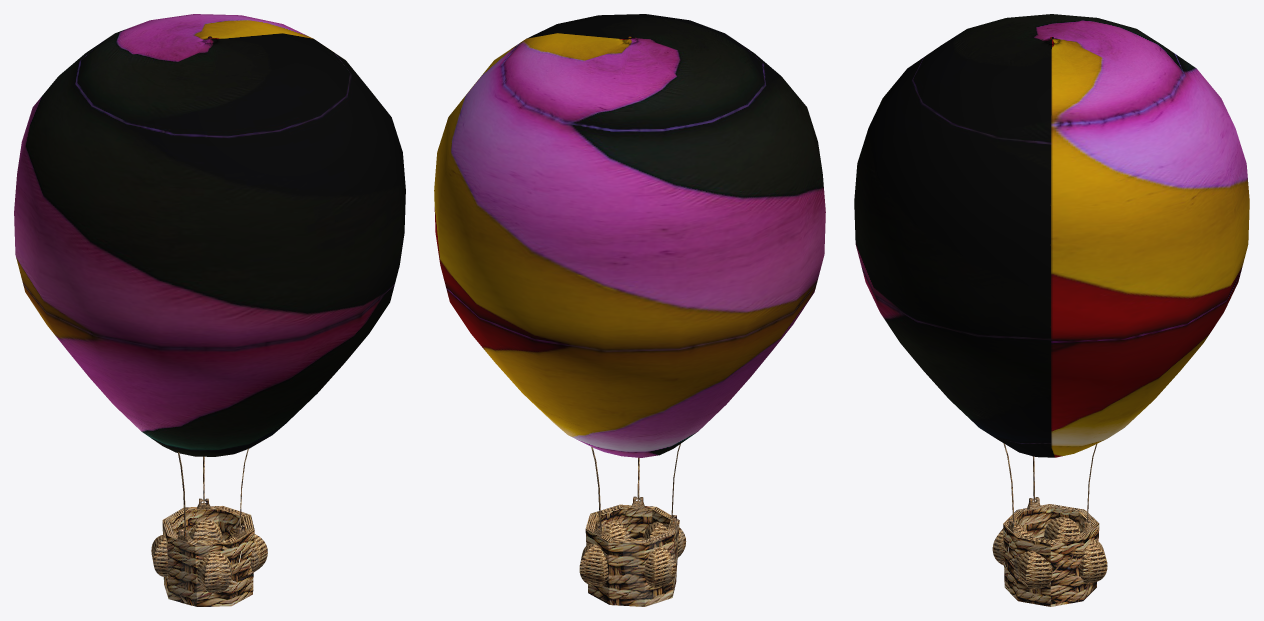
File: balloon.obj
The picture shows the model from 3 angles, left to right: view 1: azimuth 30°, elevation 25°; view 2: azimuth 150°, elevation 25°; view 3: azimuth 270°, elevation 25°; orthographic projection.
Parts seen in each view (by area): view 1: nurbsToPoly1, pPipe1, pSphere1, pSphere3, pSphere2; view 2: nurbsToPoly1, pPipe1, pSphere3, pSphere2; view 3: nurbsToPoly1, pPipe1, pSphere4, pSphere2, pSphere3.
Boxes of the visible parts, x1=… form: nurbsToPoly1: x1=14, y1=14, x2=405, y2=456; pPipe1: x1=162, y1=506, x2=254, y2=606; pSphere1: x1=196, y1=552, x2=232, y2=592; pSphere3: x1=151, y1=534, x2=167, y2=576; pSphere2: x1=189, y1=520, x2=222, y2=541; nurbsToPoly1: x1=434, y1=14, x2=825, y2=457; pPipe1: x1=585, y1=504, x2=679, y2=606; pSphere3: x1=644, y1=547, x2=676, y2=587; pSphere2: x1=579, y1=544, x2=608, y2=586; nurbsToPoly1: x1=854, y1=14, x2=1249, y2=457; pPipe1: x1=1003, y1=504, x2=1099, y2=606; pSphere4: x1=1013, y1=550, x2=1052, y2=589; pSphere2: x1=1079, y1=540, x2=1107, y2=583; pSphere3: x1=1044, y1=517, x2=1080, y2=539.
Size of the model in its own units: 29.66 by 45.57 by 29.66.
2 materials, 2 textured.
